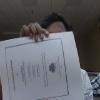notebook: (0, 30, 85, 99)
